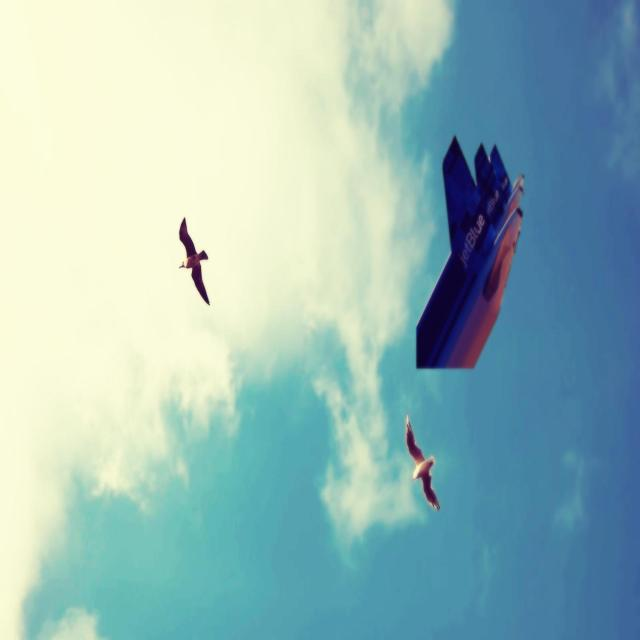airplane: (415, 134, 525, 369)
